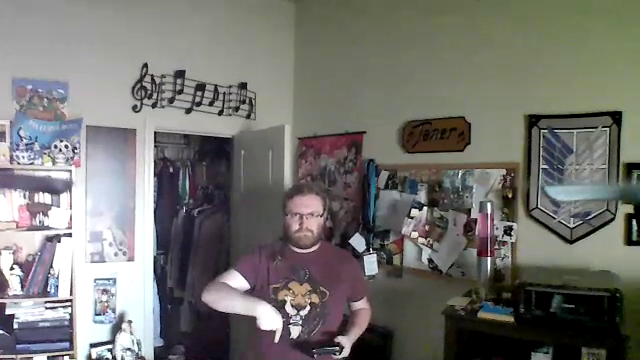down: (252, 296, 286, 351)
